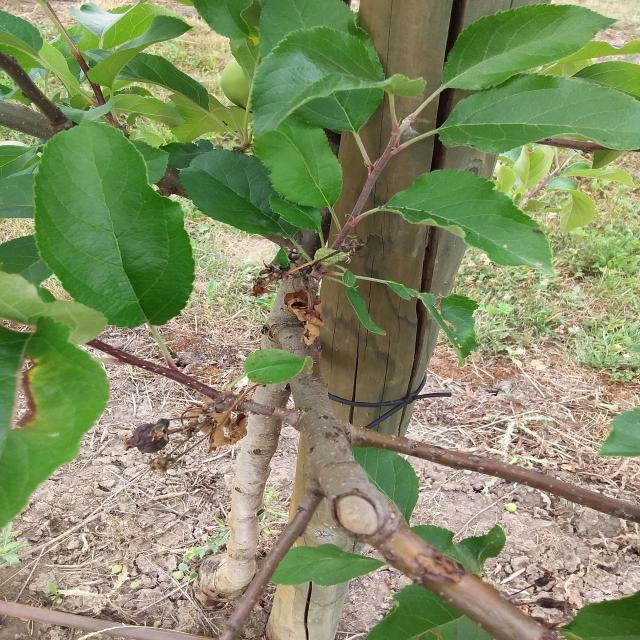-FireBlight-: (188, 411, 262, 448), (294, 268, 326, 338)
